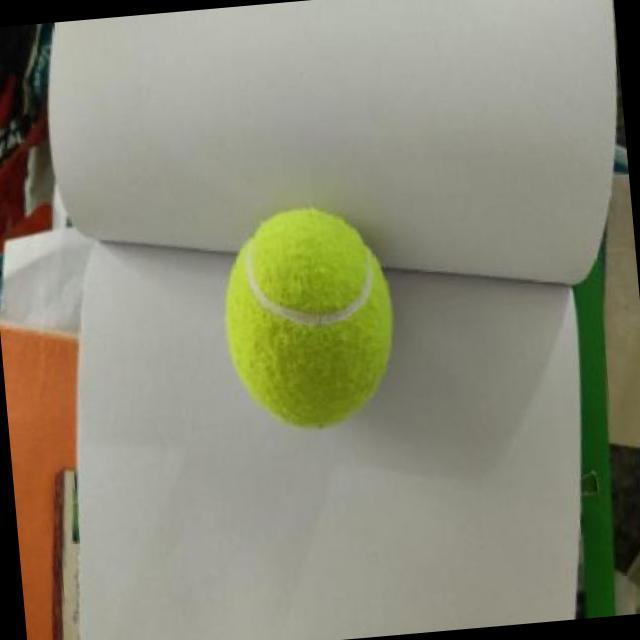-: (202, 178, 435, 454)
